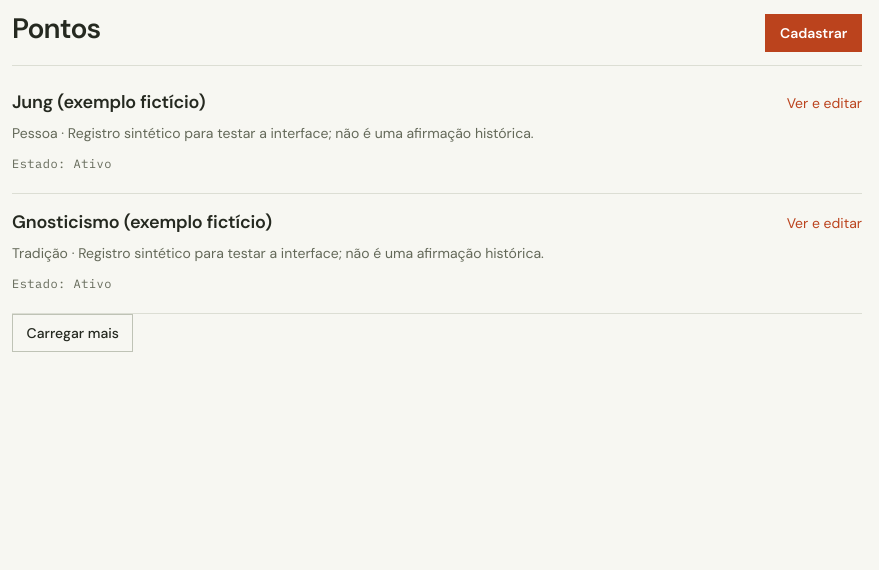
it: RecordsPage › lista pontos com paginação e link de edição
This screenshot has width=879, height=570.
Expected: the heading "Pontos" is shown, x1=12 y1=12 x2=100 y2=46
Expected: the heading "Jung (exemplo fictício)" is shown, x1=12 y1=90 x2=205 y2=114
Click the button "Carregar mais": (73, 333) x1=12 y1=314 x2=134 y2=352
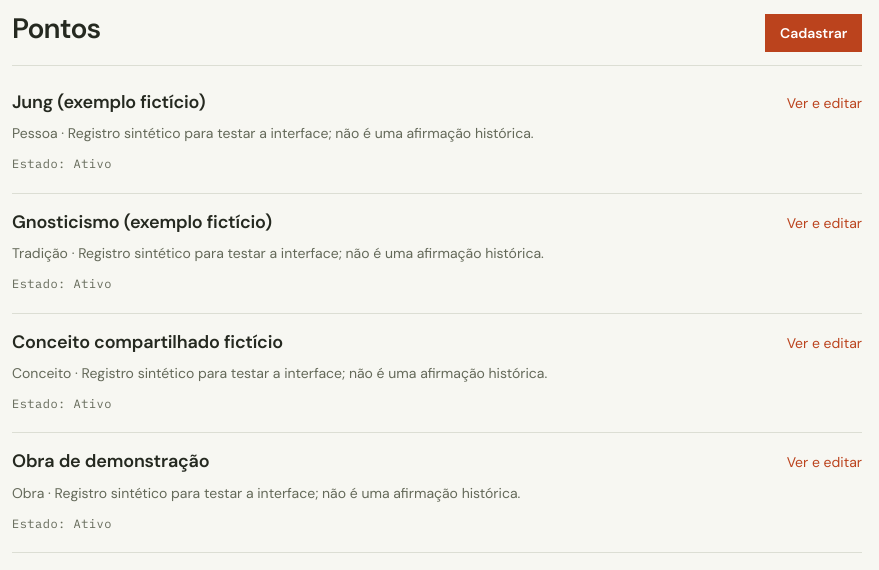
Expected: the heading "Obra de demonstração" is shown, x1=12 y1=449 x2=210 y2=473
